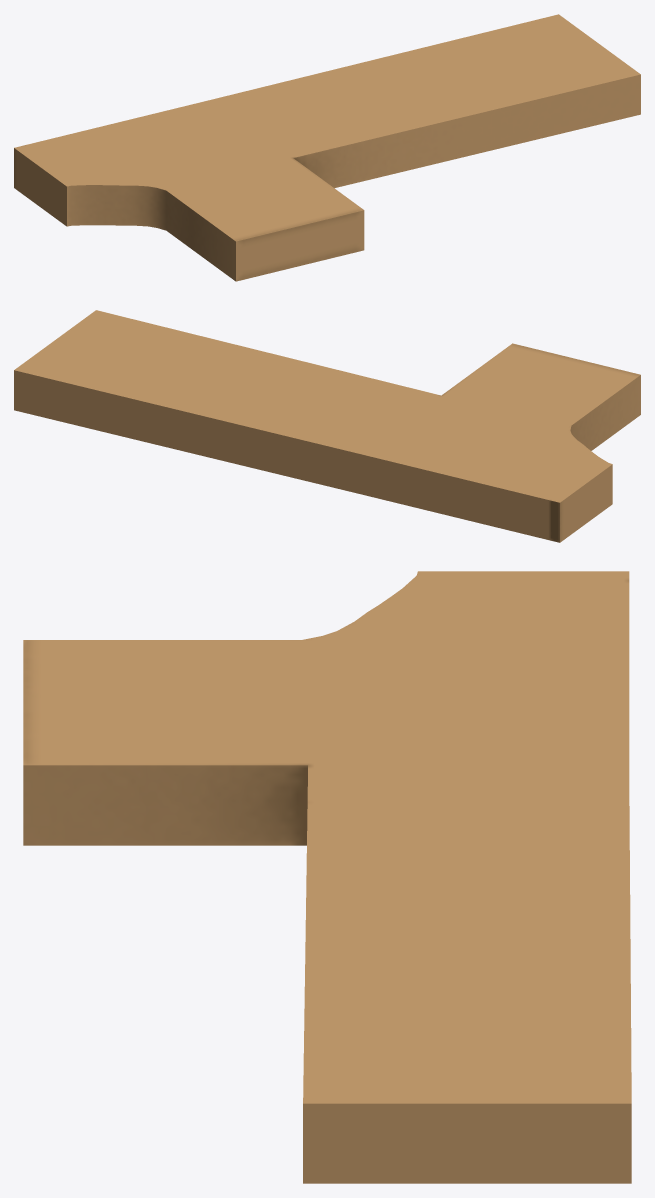
File: 1_Bronze.glb
The picture shows the model from 3 angles, top to bottom: view 1: azimuth 30°, elevation 25°; view 2: azimuth 150°, elevation 25°; view 3: azimuth 270°, elevation 25°; orthographic projection. The views are drawn at different scales.
Visible parts, largest first — view 1: 1*; view 2: 1*; view 3: 1*.
Part boxes in pixels (x1,y1,x2,y2): 1*: [14, 14, 640, 281]; 1*: [14, 310, 640, 542]; 1*: [23, 571, 631, 1183].
Bounding box in the file's own units: 0.5378 × 0.0378 × 0.2599.
Materials: 1 (1 with a texture image).
